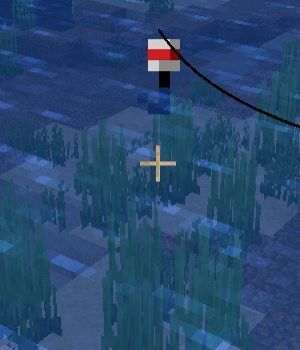up: (137, 37, 184, 113)
